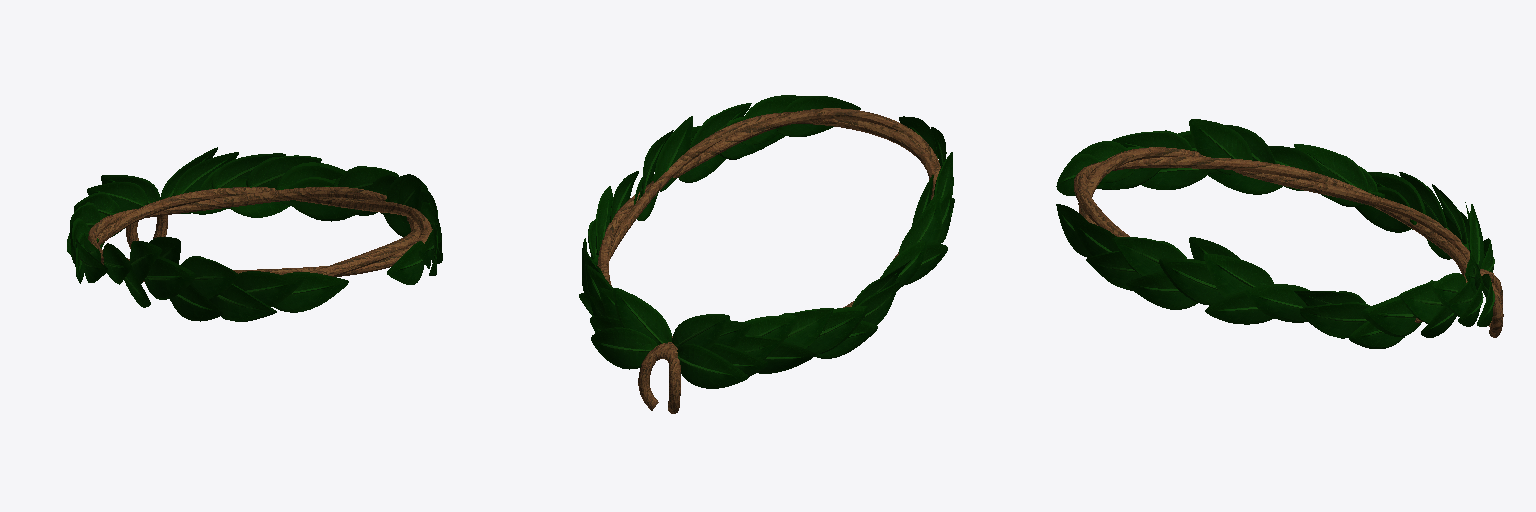
The picture shows the model from 3 angles: view 1: azimuth 30°, elevation 25°; view 2: azimuth 150°, elevation 25°; view 3: azimuth 270°, elevation 25°; orthographic projection.
Parts seen in each view (by area): view 1: leaves, crown; view 2: leaves, crown; view 3: leaves, crown.
Boxes of the visible parts, x1,y1,x2,y2 form: leaves: [67, 147, 442, 321]; crown: [88, 187, 432, 281]; leaves: [579, 95, 954, 388]; crown: [597, 108, 940, 413]; leaves: [1056, 119, 1494, 348]; crown: [1074, 147, 1503, 337].
Bounding box in the file's own units: 0.0759 × 0.0375 × 0.0975.
Materials: 2 (2 with a texture image).